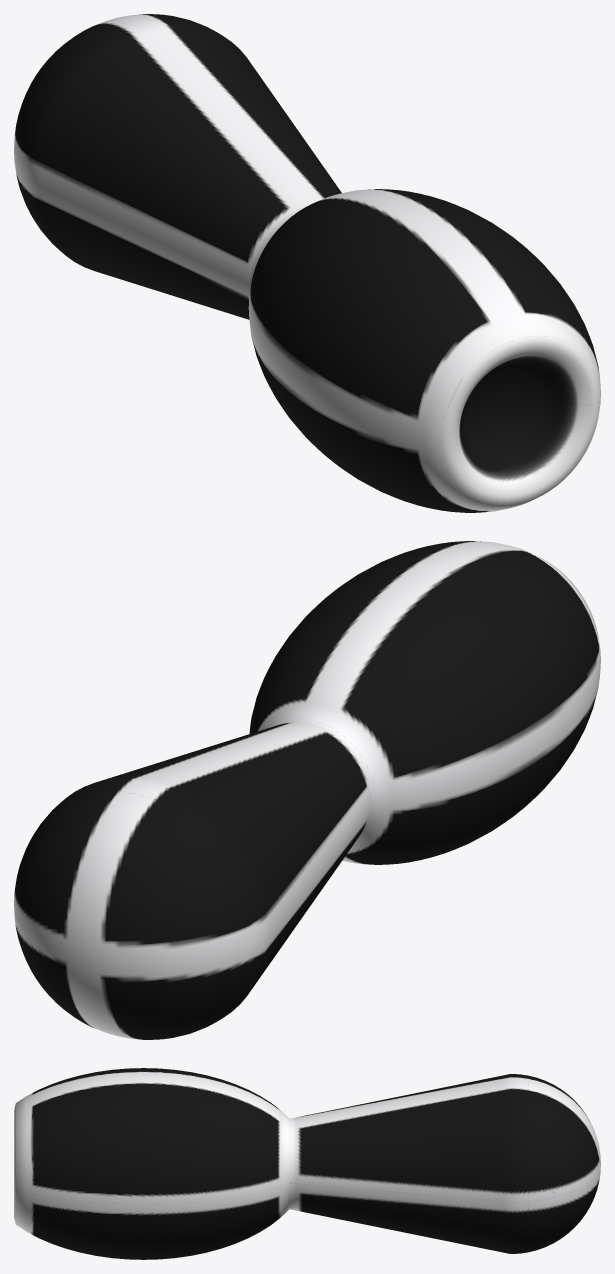
The model's file is PlayerFPV.fbx.
The picture shows the model from 3 angles, top to bottom: view 1: azimuth 30°, elevation 25°; view 2: azimuth 150°, elevation 25°; view 3: azimuth 270°, elevation 25°; orthographic projection. The views are drawn at different scales.
Parts seen in each view (by area): view 1: Mesh.004; view 2: Mesh.004; view 3: Mesh.004.
Boxes of the visible parts, x1,y1,x2,y2 form: Mesh.004: (14,14,600,512); Mesh.004: (14,541,600,1039); Mesh.004: (14,1068,600,1259).
Size of the model in its own units: 0.9933 by 0.9933 by 3.04.
